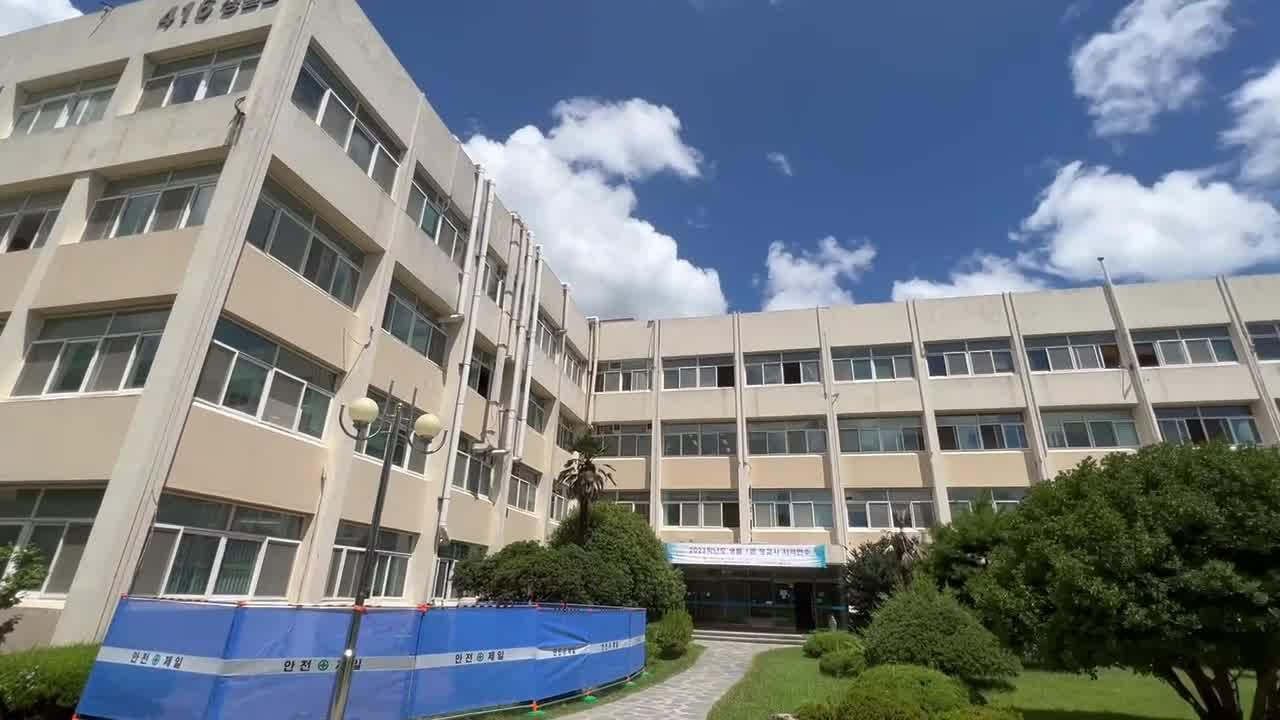building: (1, 18, 588, 545)
